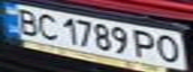1: (54, 16, 78, 45)
7: (72, 18, 93, 47)
8: (90, 20, 112, 52)
9: (109, 25, 133, 56)
B: (12, 6, 42, 36)
C: (33, 11, 60, 40)
O: (154, 33, 187, 64)
P: (130, 28, 160, 60)
